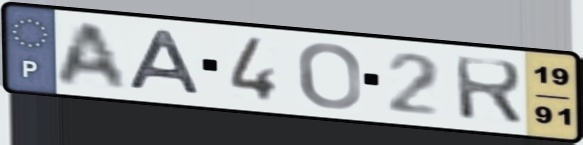2: (385, 51, 445, 119)
4: (226, 36, 283, 104)
A: (53, 19, 132, 92), (126, 27, 206, 98)
O: (294, 40, 364, 112)
R: (451, 54, 526, 128)
